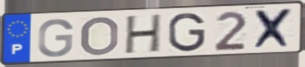2: (213, 9, 250, 53)
G: (167, 11, 208, 54), (36, 17, 75, 58)
H: (123, 12, 164, 56)
O: (78, 15, 121, 57)
X: (252, 6, 297, 50)
